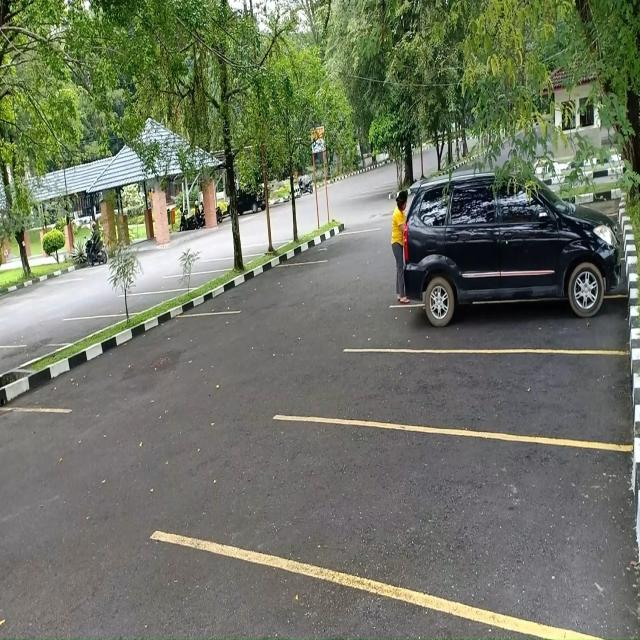empty: (281, 420, 635, 620), (346, 348, 631, 441), (232, 260, 311, 315), (106, 290, 174, 318), (49, 315, 104, 348), (166, 272, 211, 292), (198, 256, 235, 273)
occupied: (398, 218, 629, 355)
